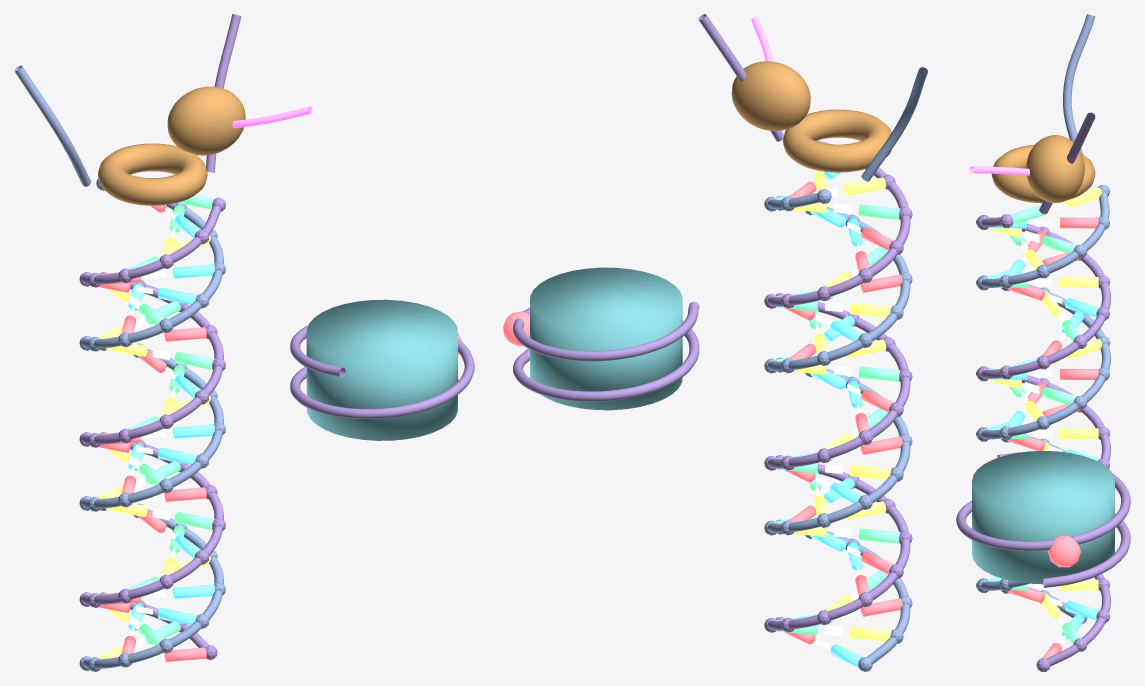
File: dna_realistic.glb
3 renders of one model, left to right at view 1: azimuth 30°, elevation 25°; view 2: azimuth 150°, elevation 25°; view 3: azimuth 270°, elevation 25°, orthographic. The views are drawn at different scales.
Parts seen in each view (by area): view 1: Histone_Octamer_Core, Phosphodiester_Backbone_3to5, Phosphodiester_Backbone_5to3, DNA_Helicase_Enzyme, RNA_Polymerase_II, Nucleosomal_DNA_Wrap, Lagging_Template_Strand, Leading_Template_Strand; view 2: Histone_Octamer_Core, Phosphodiester_Backbone_5to3, DNA_Helicase_Enzyme, Nucleosomal_DNA_Wrap, Phosphodiester_Backbone_3to5, RNA_Polymerase_II, Lagging_Template_Strand, Leading_Template_Strand; view 3: Histone_Octamer_Core, Phosphodiester_Backbone_5to3, Phosphodiester_Backbone_3to5, Nucleosomal_DNA_Wrap, RNA_Polymerase_II, DNA_Helicase_Enzyme, Lagging_Template_Strand, Histone_H1_Linker, Leading_Template_Strand, Nascent_mRNA_Transcript, Base_A_29, Base_C_14 (+13 smaller).
Part boxes in pixels (x1,y1,x2,y2): Histone_Octamer_Core: (306, 299, 457, 440); Phosphodiester_Backbone_3to5: (81, 203, 223, 669); Phosphodiester_Backbone_5to3: (81, 205, 223, 647); DNA_Helicase_Enzyme: (98, 143, 207, 205); RNA_Polymerase_II: (167, 86, 245, 155); Nucleosomal_DNA_Wrap: (290, 325, 474, 418); Lagging_Template_Strand: (14, 65, 91, 186); Leading_Template_Strand: (206, 14, 241, 172); Histone_Octamer_Core: (530, 267, 682, 410); Phosphodiester_Backbone_5to3: (767, 140, 910, 630); DNA_Helicase_Enzyme: (783, 109, 891, 172); Nucleosomal_DNA_Wrap: (513, 301, 699, 401); Phosphodiester_Backbone_3to5: (767, 193, 910, 663); RNA_Polymerase_II: (731, 61, 810, 130); Lagging_Template_Strand: (861, 67, 927, 181); Leading_Template_Strand: (698, 14, 783, 141); Histone_Octamer_Core: (972, 450, 1114, 584); Phosphodiester_Backbone_5to3: (976, 217, 1110, 666); Phosphodiester_Backbone_3to5: (976, 192, 1110, 617); Nucleosomal_DNA_Wrap: (956, 452, 1130, 587); RNA_Polymerase_II: (1026, 135, 1084, 202); DNA_Helicase_Enzyme: (991, 144, 1095, 203); Lagging_Template_Strand: (1063, 14, 1095, 153); Histone_H1_Linker: (1047, 535, 1080, 567); Leading_Template_Strand: (1039, 112, 1095, 214); Nascent_mRNA_Transcript: (969, 166, 1029, 175); Base_A_29: (1060, 217, 1098, 228); Base_C_14: (1060, 428, 1098, 438).
Size of the model in its own units: 7.88 by 10.76 by 2.92.
